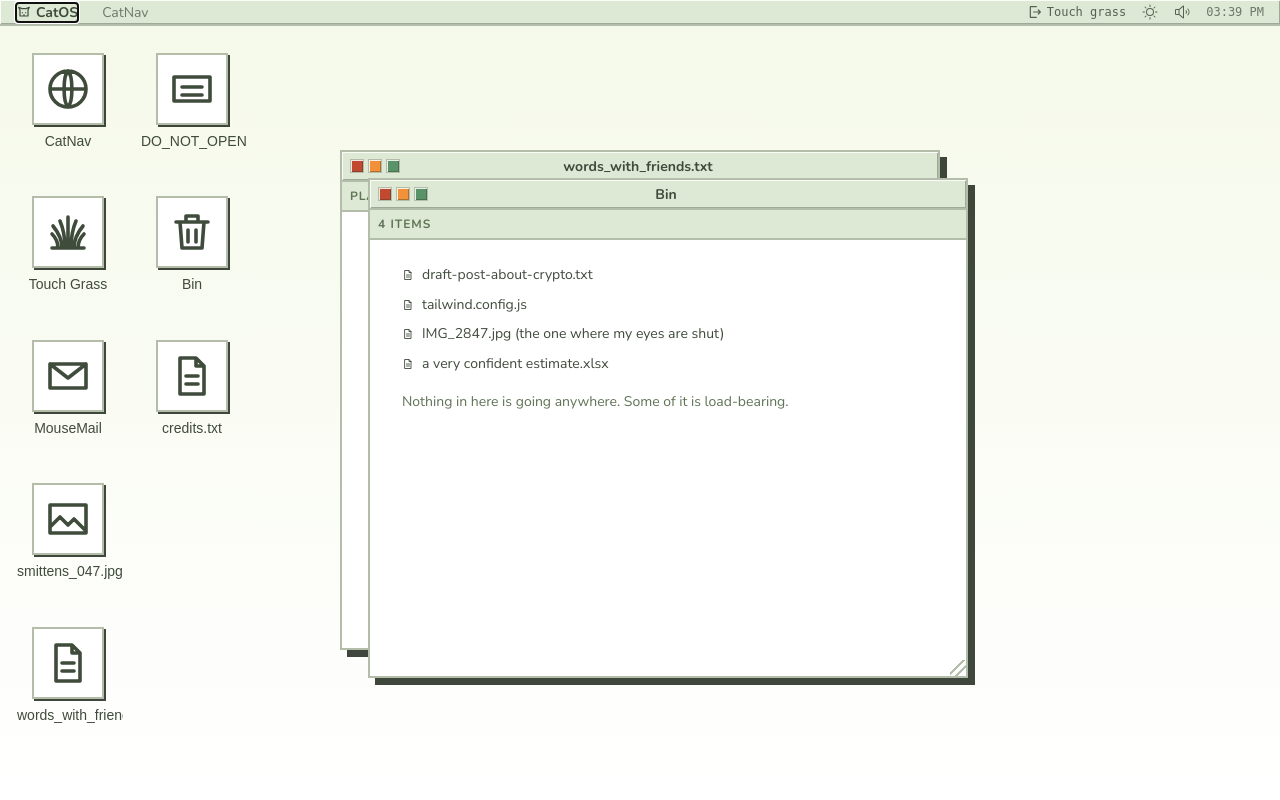
Test: LaptopScreenOverlay (CatOS) › the cat menu › sweeps the desktop without leaving CatOS
Click the button with aria-label "CatOS menu". click: {"x": 47, "y": 12}
box: x1=16 y1=2 x2=78 y2=22
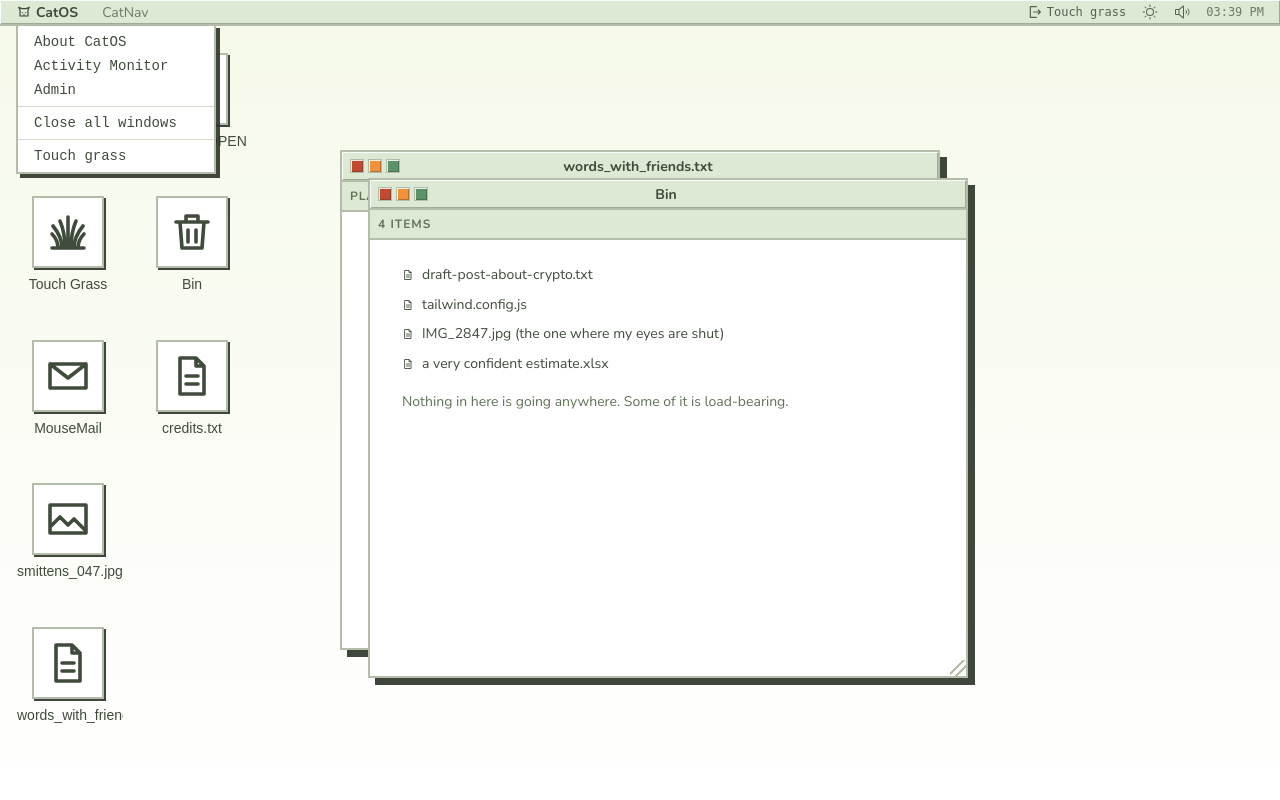
Click the menu item "Close all windows". click: {"x": 105, "y": 123}
box: x1=34 y1=115 x2=177 y2=131
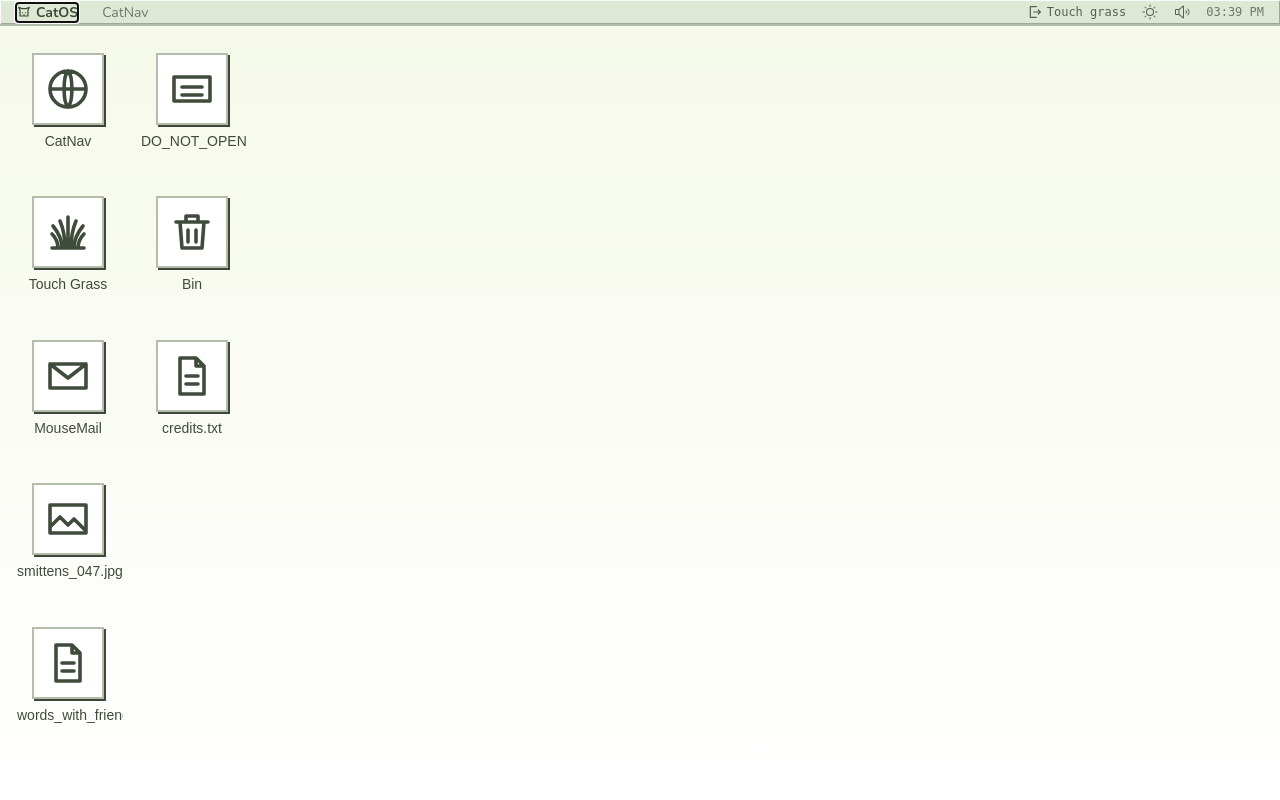
Expected: the text with test id "path" reads "/blog", x1=0 y1=0 x2=37 y2=22
